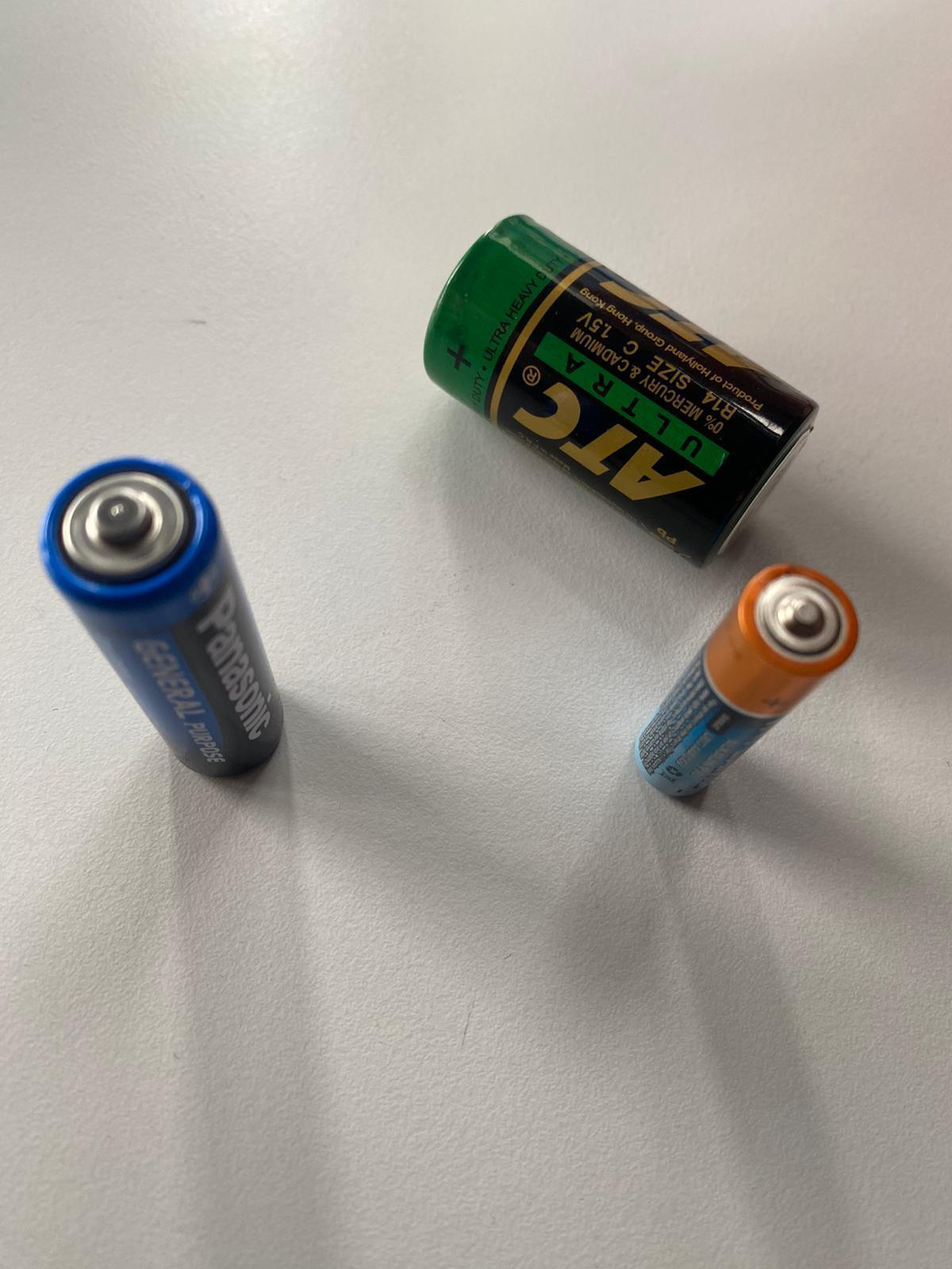AA: (38, 450, 287, 785)
AAA: (624, 561, 865, 808)
